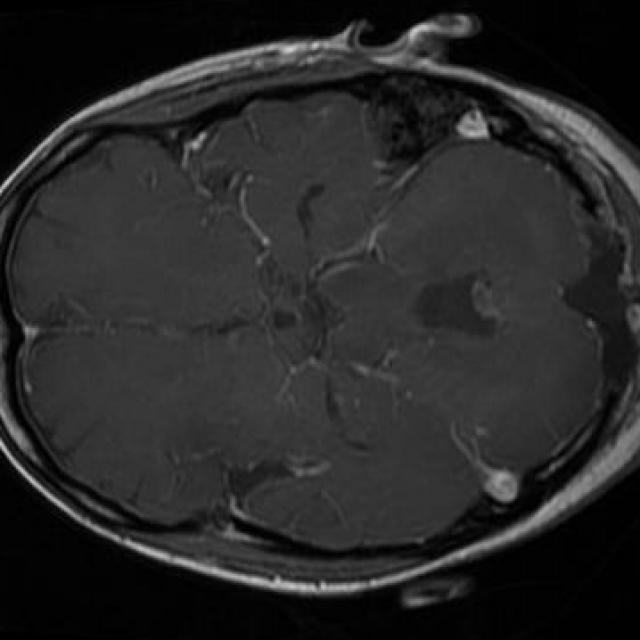glioma: (414, 271, 494, 337)
